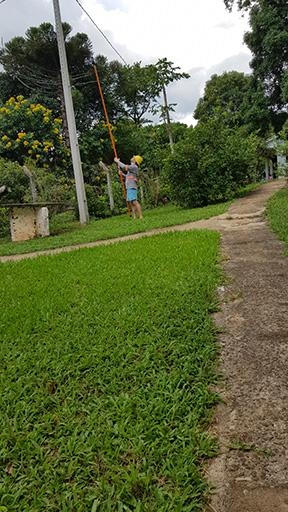Vara_Manobra: (92, 64, 131, 216)
